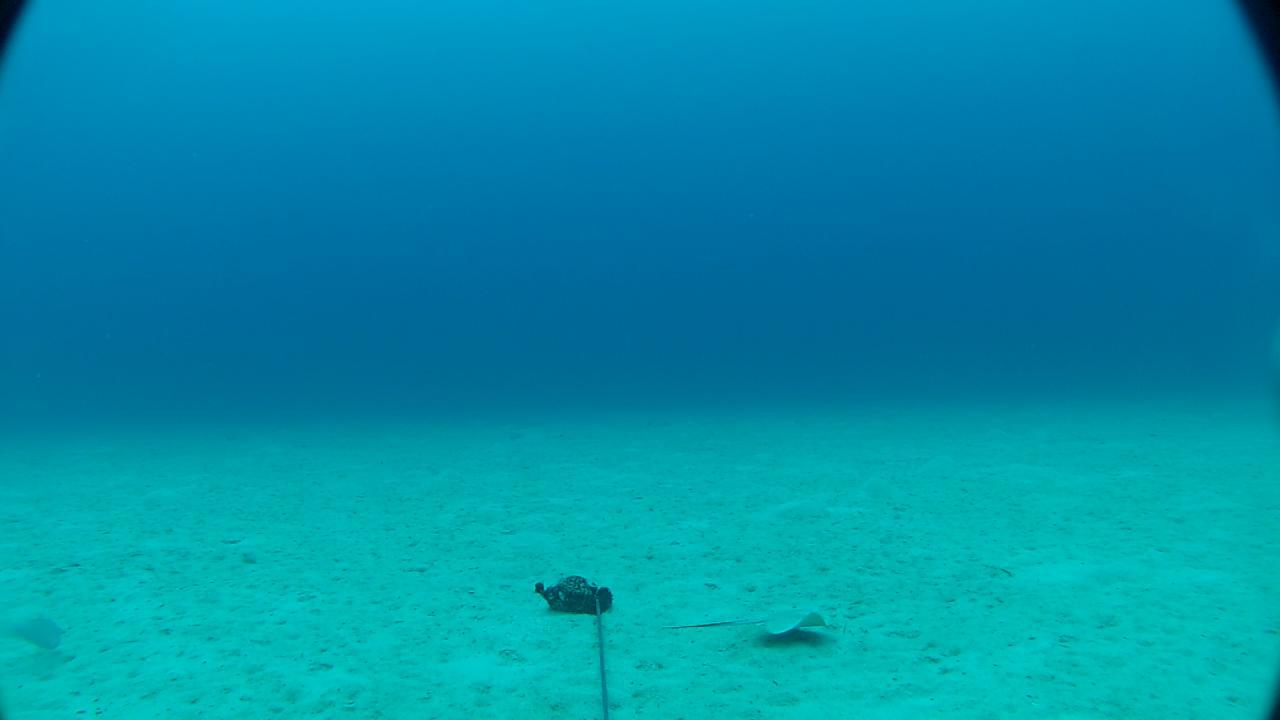dasyatis: (658, 610, 828, 636)
